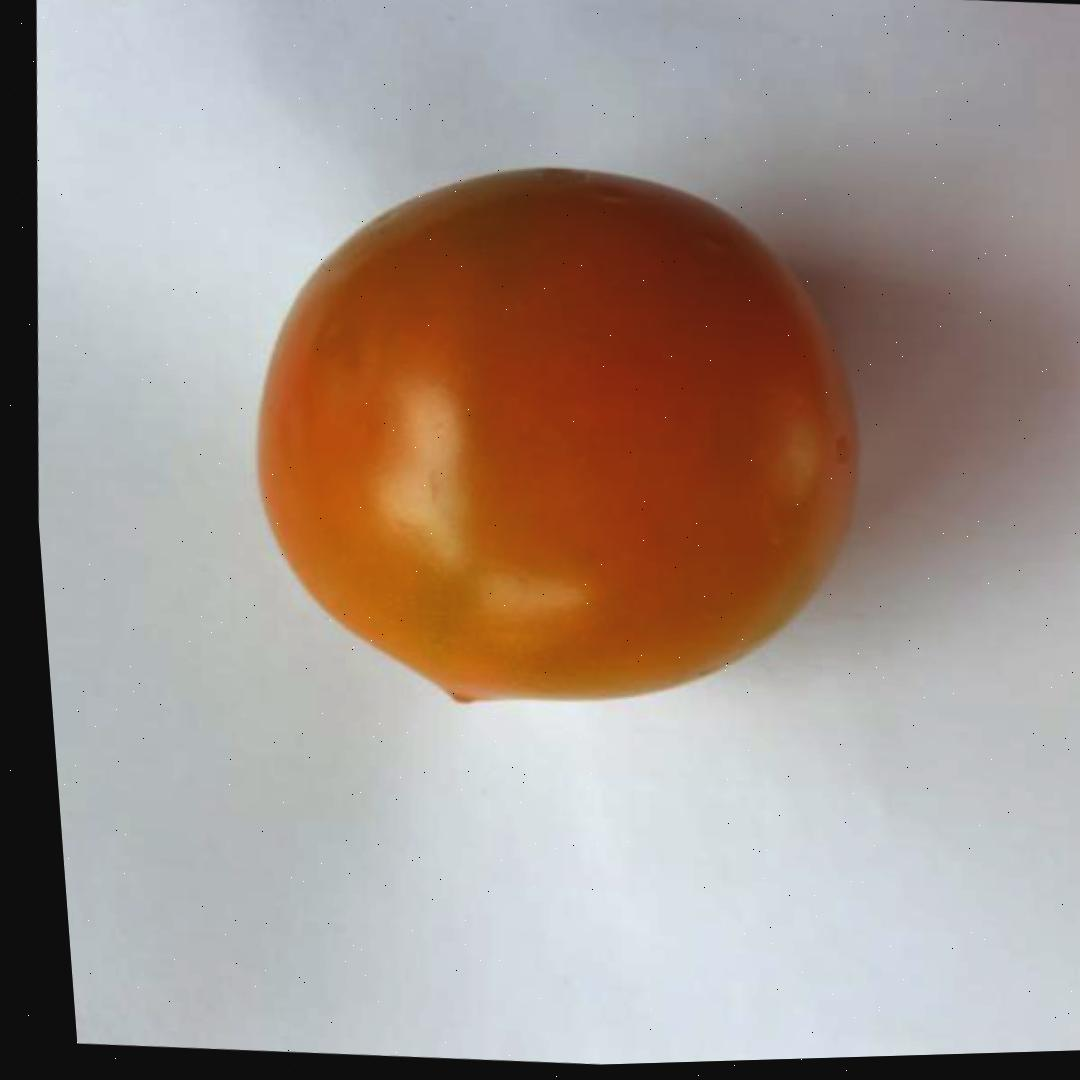setengah_matang: (207, 134, 905, 739)
